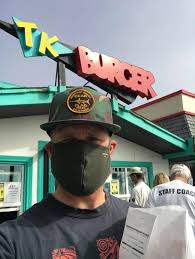mask: (51, 140, 110, 196)
